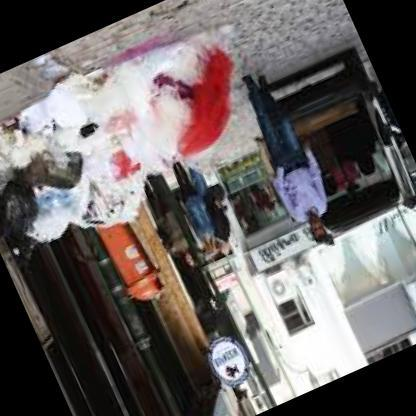Garbage: (0, 69, 165, 254), (0, 117, 62, 250)
